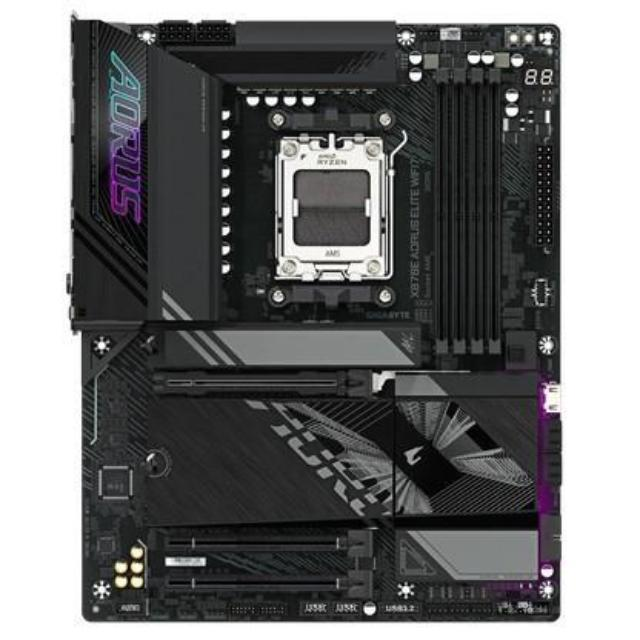Mainboard: (62, 9, 564, 622)
